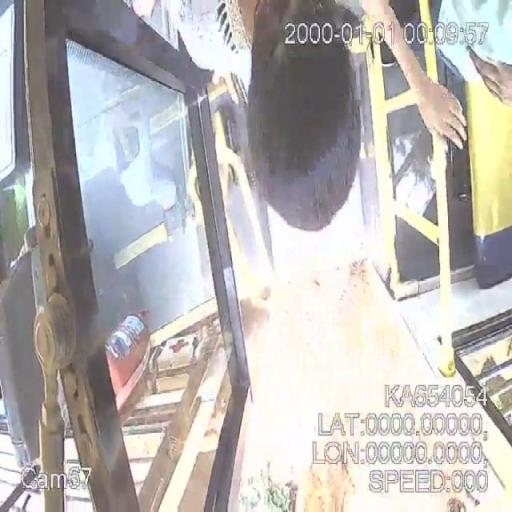persona: (236, 0, 469, 234)
